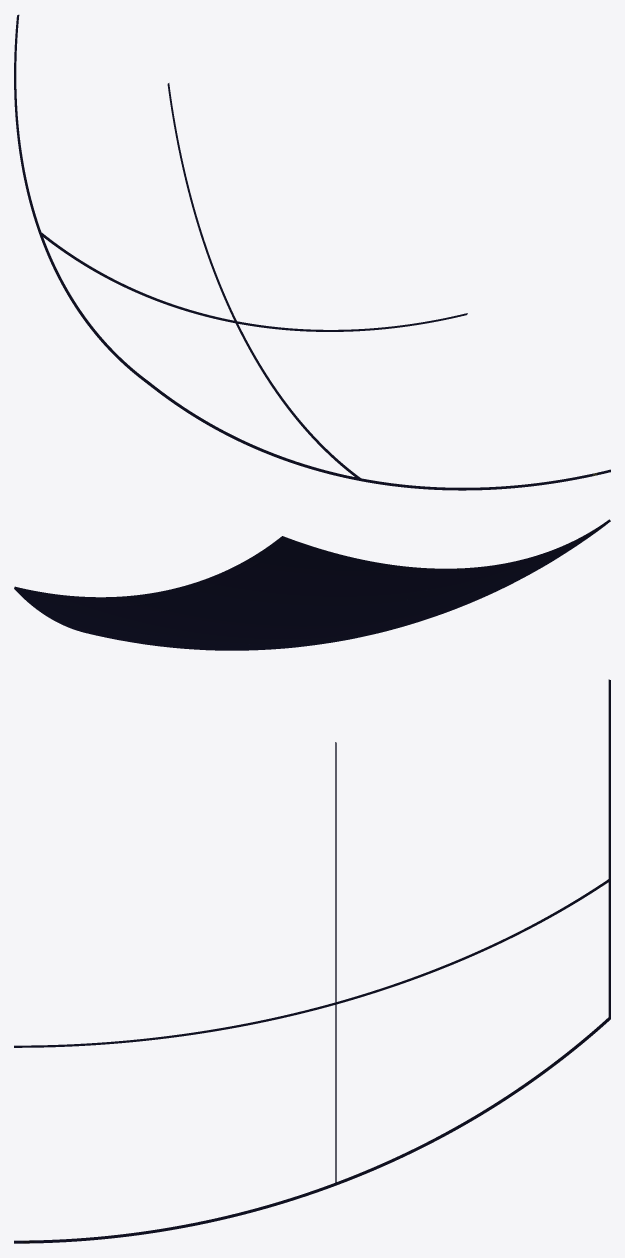
The picture shows the model from 3 angles, top to bottom: view 1: azimuth 30°, elevation 25°; view 2: azimuth 150°, elevation 25°; view 3: azimuth 270°, elevation 25°; orthographic projection. The views are drawn at different scales.
Parts seen in each view (by area): view 1: DefaultName.009, DefaultName.012, DefaultName.003, DefaultName.006; view 2: DefaultName.003, DefaultName.006, DefaultName.012; view 3: DefaultName.006, DefaultName.009, DefaultName.003, DefaultName.012.
Part boxes in pixels (left/top/right/bottom): DefaultName.009: left=235, top=322, right=610, bottom=490; DefaultName.012: left=39, top=232, right=361, bottom=480; DefaultName.003: left=14, top=14, right=236, bottom=323; DefaultName.006: left=167, top=83, right=467, bottom=331; DefaultName.003: left=159, top=536, right=464, bottom=643; DefaultName.006: left=14, top=586, right=302, bottom=650; DefaultName.012: left=304, top=519, right=610, bottom=643; DefaultName.006: left=335, top=879, right=610, bottom=1184; DefaultName.009: left=14, top=1003, right=336, bottom=1243; DefaultName.003: left=335, top=679, right=610, bottom=1004; DefaultName.012: left=14, top=742, right=336, bottom=1047.
Size of the model in its own units: 45100 by 31962 by 44873.
4 materials, 4 textured.
